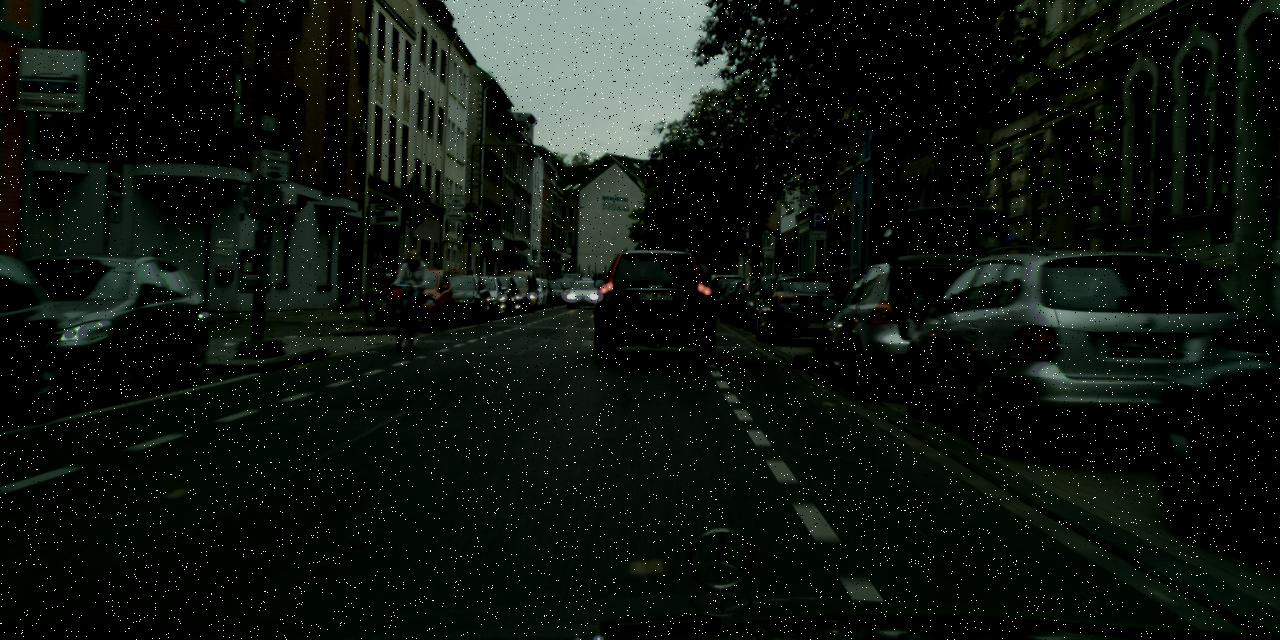ped: (974, 232, 1039, 389), (397, 248, 430, 330), (462, 268, 477, 304)
